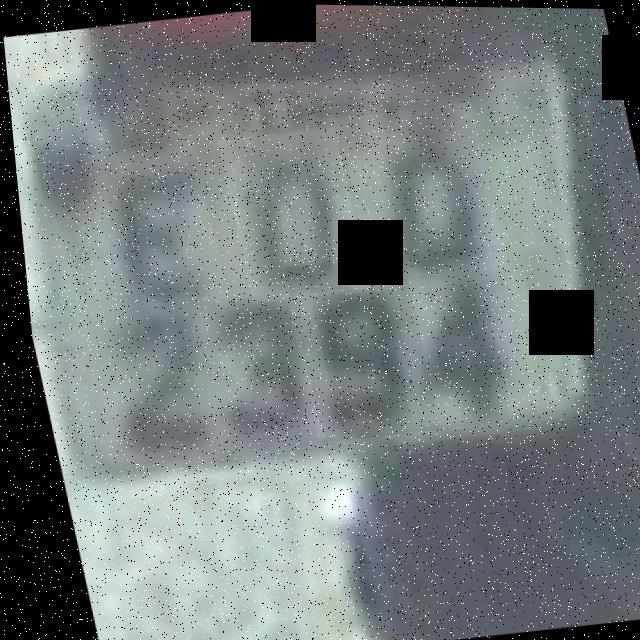3: (168, 275, 337, 459)
4: (377, 240, 532, 431)
9: (279, 252, 434, 442)
D: (342, 100, 503, 281), (214, 124, 366, 304)
E: (77, 141, 223, 311)
